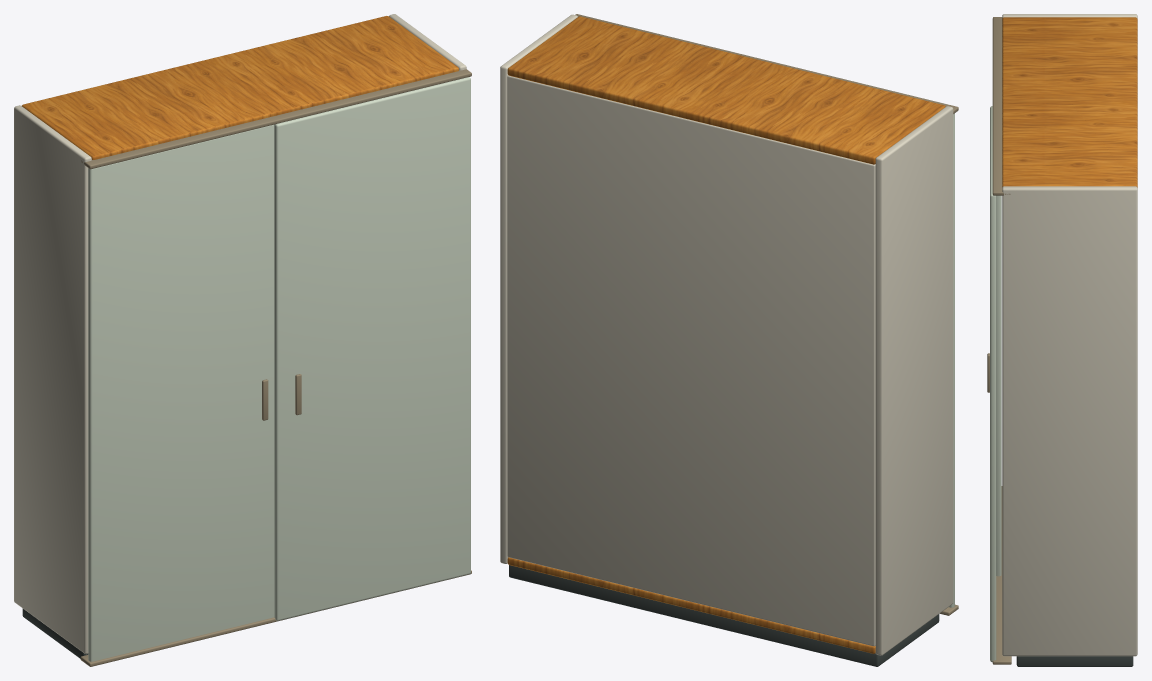
The model's file is sliding-closet.glb.
3 renders of one model, left to right at view 1: azimuth 30°, elevation 25°; view 2: azimuth 150°, elevation 25°; view 3: azimuth 270°, elevation 25°, orthographic. The views are drawn at different scales.
Parts seen in each view (by area): view 1: sliding-closet; view 2: sliding-closet; view 3: sliding-closet.
Part boxes in pixels (x1,y1,x2,y2): sliding-closet: (14, 14, 471, 666); sliding-closet: (500, 14, 958, 666); sliding-closet: (987, 14, 1137, 666).
Size of the model in its own units: 1.8 by 2.3 by 0.65.
5 materials, 1 textured.
